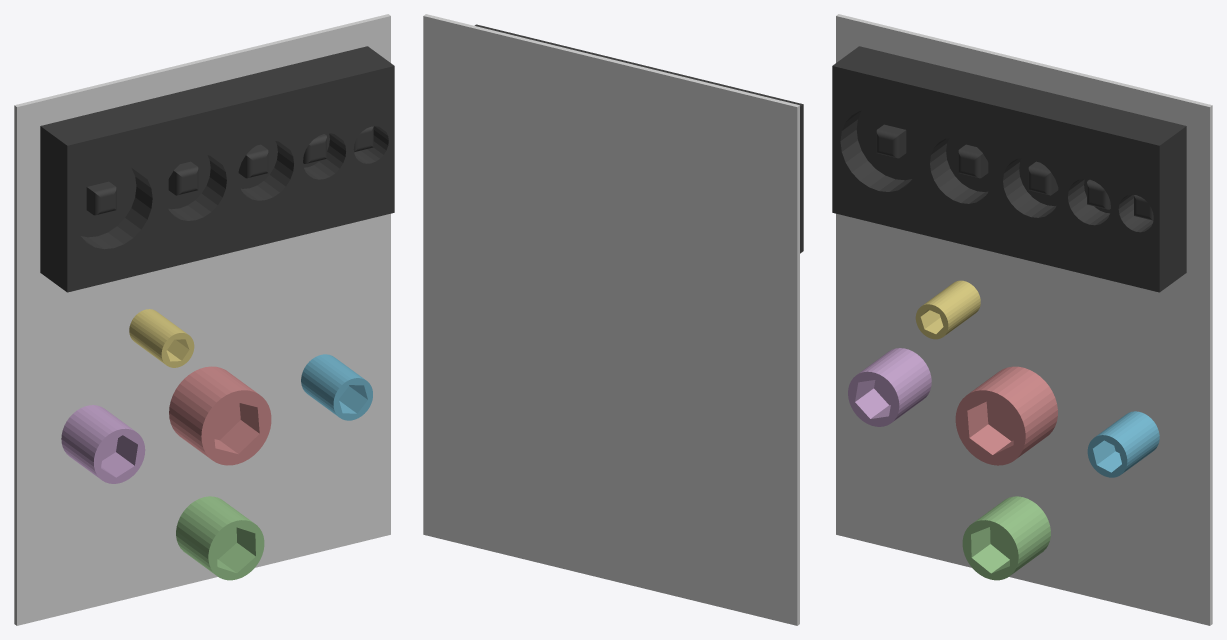
The model's file is pickup_layout.glb.
3 renders of one model, left to right at view 1: azimuth 30°, elevation 25°; view 2: azimuth 150°, elevation 25°; view 3: azimuth 330°, elevation 25°, orthographic.
Visible parts, largest first — view 1: world, 0.obj, 5.obj, 4.obj, 3.obj, 2.obj, 1.obj; view 2: world, 0.obj; view 3: world, 0.obj, 5.obj, 4.obj, 3.obj, 2.obj, 1.obj.
Part boxes in pixels (left/top/right/bottom): world: left=14, top=14, right=390, bottom=625; 0.obj: left=40, top=46, right=394, bottom=292; 5.obj: left=169, top=366, right=271, bottom=465; 4.obj: left=176, top=496, right=264, bottom=580; 3.obj: left=61, top=405, right=145, bottom=483; 2.obj: left=301, top=354, right=372, bottom=420; 1.obj: left=129, top=309, right=194, bottom=367; world: left=423, top=14, right=799, bottom=625; 0.obj: left=474, top=24, right=803, bottom=253; world: left=836, top=14, right=1212, bottom=625; 0.obj: left=832, top=46, right=1186, bottom=292; 5.obj: left=955, top=366, right=1057, bottom=465; 4.obj: left=962, top=496, right=1050, bottom=580; 3.obj: left=848, top=348, right=931, bottom=426; 2.obj: left=1087, top=411, right=1159, bottom=477; 1.obj: left=915, top=280, right=980, bottom=339.
Bounding box in the file's own units: 16 × 21.2 × 2.6.
Materials: 1 (1 with a texture image).
